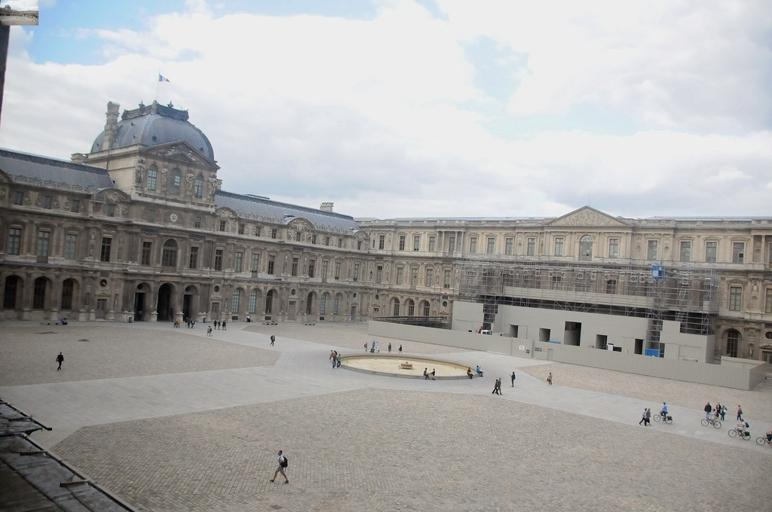non-vehicle: (727, 424, 751, 441), (700, 415, 721, 429), (652, 412, 673, 425), (755, 436, 772, 447)
